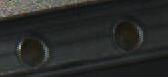joints: (15, 30, 52, 70), (109, 14, 146, 52)
